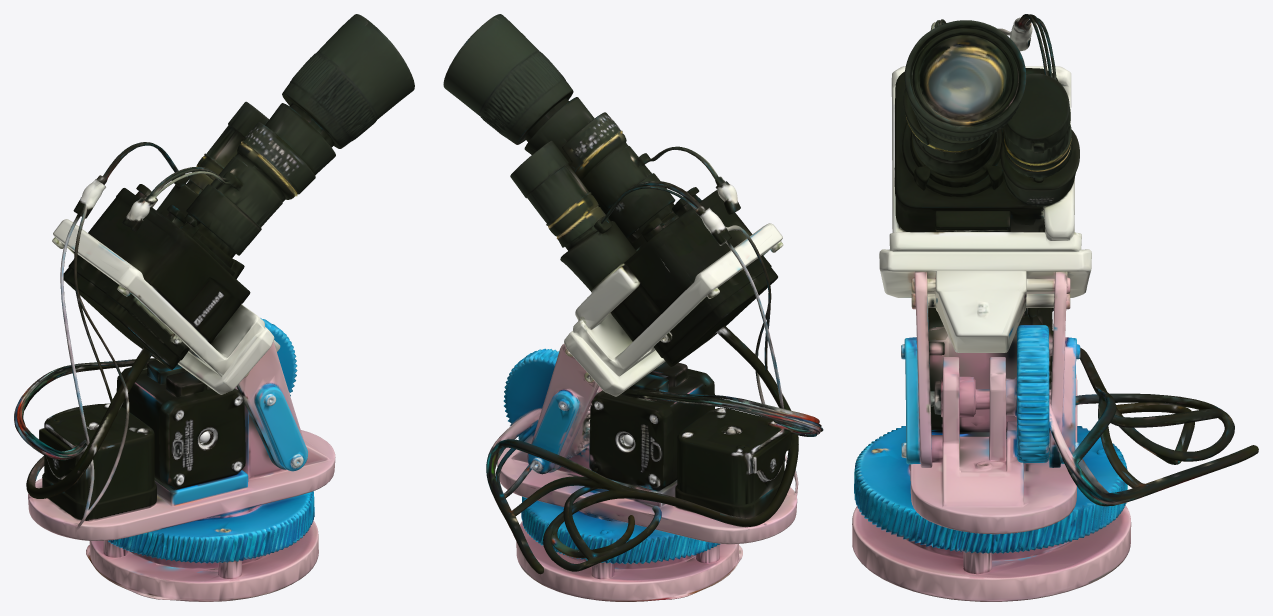
File: award-15.glb
The picture shows the model from 3 angles, left to right: view 1: azimuth 30°, elevation 25°; view 2: azimuth 150°, elevation 25°; view 3: azimuth 270°, elevation 25°; orthographic projection. The views are drawn at different scales.
Parts seen in each view (by area): view 1: node_0; view 2: node_0; view 3: node_0.
Boxes of the visible parts, x1=… form: node_0: x1=14, y1=14, x2=414, y2=601; node_0: x1=443, y1=14, x2=823, y2=601; node_0: x1=852, y1=14, x2=1258, y2=601.
Bounding box in the file's own units: 0.7666 × 0.9773 × 0.5877.
1 material, 1 textured.
